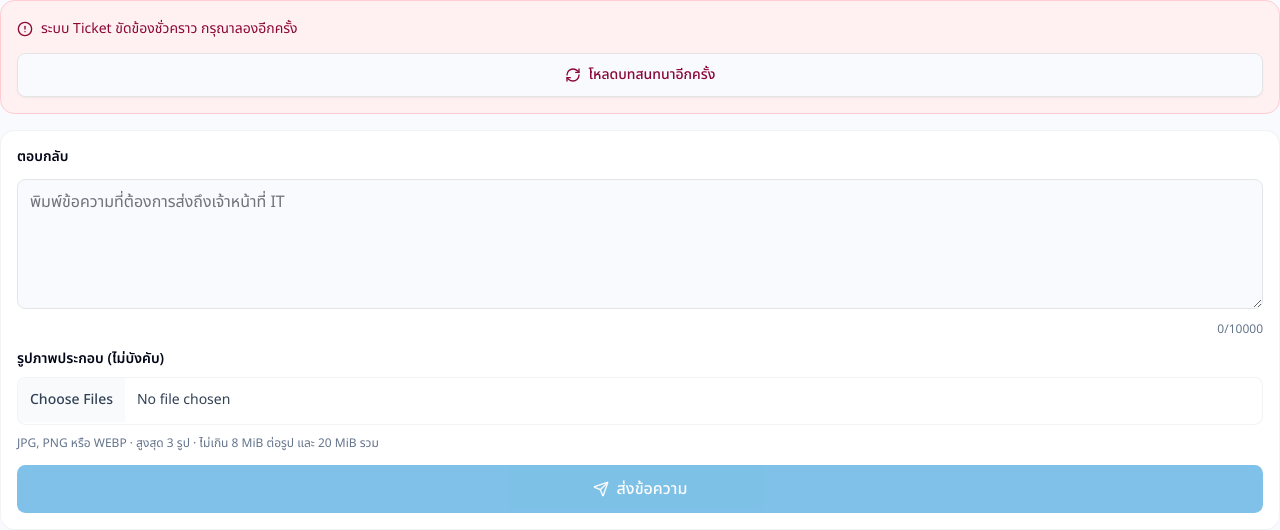
Test: LiffITConversation › retries conversation failures and shows a useful empty state
Expected: the message shows "ระบบ Ticket ขัดข้องชั่วคราว", [41,18,298,39]
Click the button "โหลดบทสนทนาอีกครั้ง".
click(640, 75)  # box [17,53,1263,97]
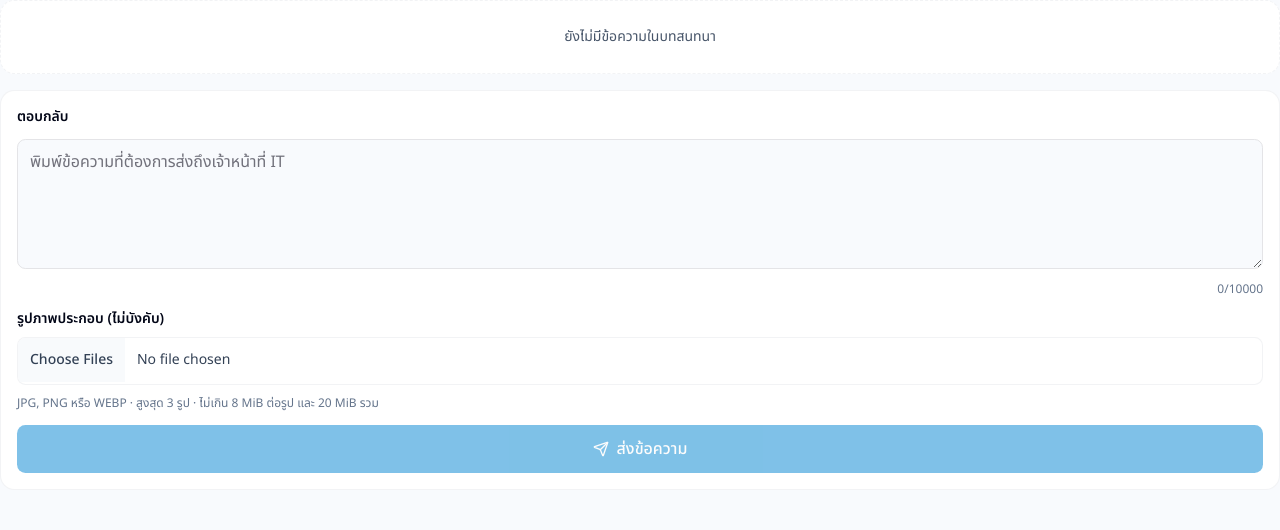
Result: the text "ยังไม่มีข้อความในบทสนทนา" is shown at [0,0,1279,74]
